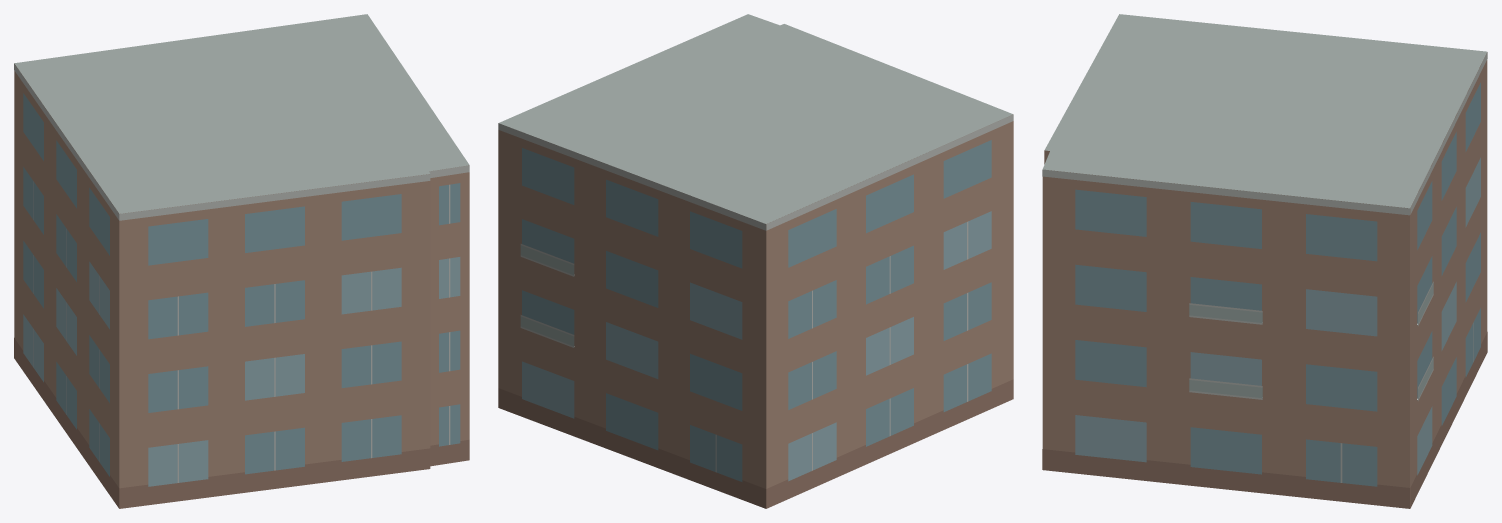
Rendered from survey-upis-32817313.glb.
3 views of the same model, side by side, from view 1: azimuth 30°, elevation 25°; view 2: azimuth 150°, elevation 25°; view 3: azimuth 270°, elevation 25° (orthographic). The views are drawn at different scales.
Parts seen in each view (by area): view 1: survey-upis-32817313.tmp; view 2: survey-upis-32817313.tmp; view 3: survey-upis-32817313.tmp.
Boxes of the visible parts, x1,y1,x2,y2 form: survey-upis-32817313.tmp: [14, 14, 469, 508]; survey-upis-32817313.tmp: [498, 14, 1013, 508]; survey-upis-32817313.tmp: [1042, 14, 1487, 508].
Size of the model in its own units: 14.43 by 10.4 by 13.97.
